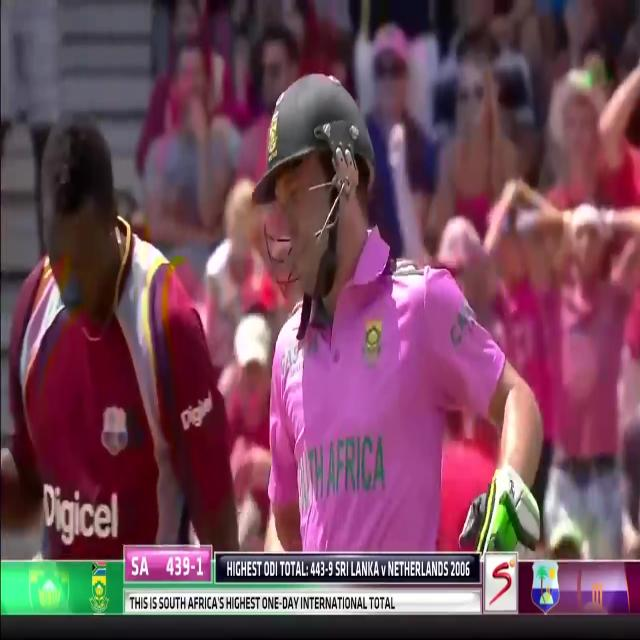Ball: (260, 64, 559, 555)
Fielder: (2, 100, 245, 554)
